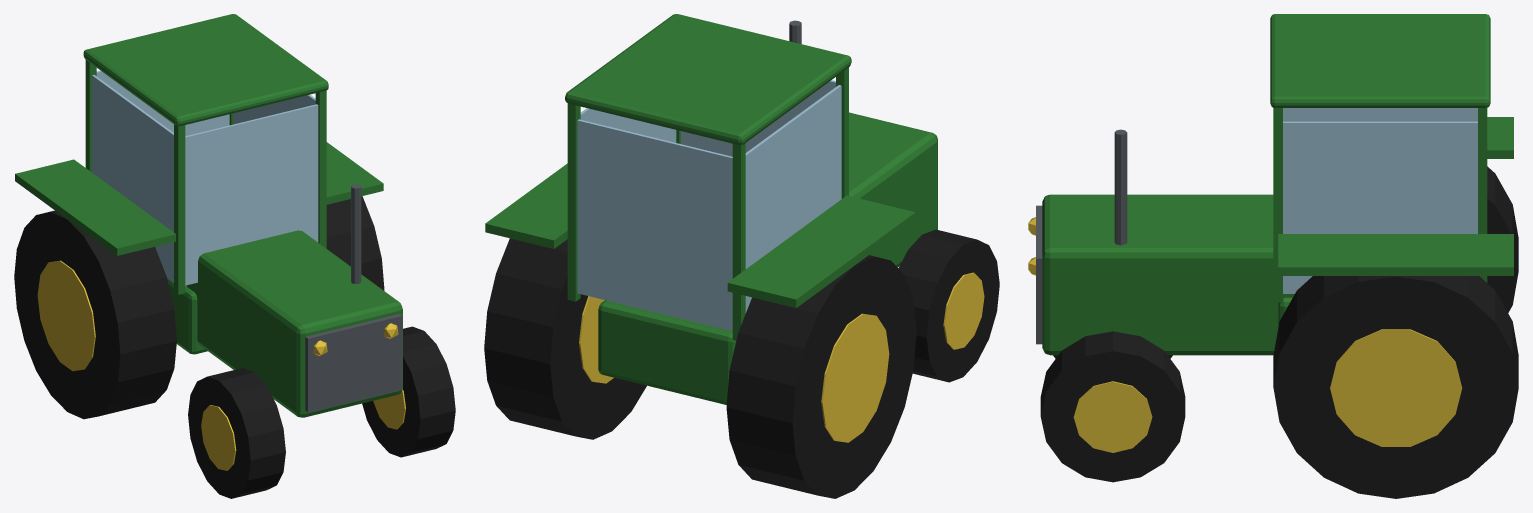
File: traktor.glb
3 renders of one model, left to right at view 1: azimuth 30°, elevation 25°; view 2: azimuth 150°, elevation 25°; view 3: azimuth 270°, elevation 25°, orthographic. The views are drawn at different scales.
Parts seen in each view (by area): view 1: motor, rad_h, glas_v, dach, glas_s, rad_v, grill, kotfluegel, rad_v.001, felge_h, rad_h.001, pfosten (+9 smaller); view 2: rad_h, glas_h, dach, rad_h.001, glas_s, rumpf, kotfluegel, rad_v, motor, felge_h, kotfluegel.001, pfosten.001 (+6 smaller); view 3: motor, rad_h.001, glas_s.001, dach, rad_v.001, felge_h.001, kotfluegel.001, felge_v.001, glas_s, rad_h, pfosten.002, auspuff (+3 smaller).
Boxes of the visible parts, box(x1,y1,x2,y2) form: motor: box(186, 230, 402, 417); rad_h: box(14, 210, 176, 419); glas_v: box(185, 104, 318, 285); dach: box(83, 14, 328, 126); glas_s: box(92, 74, 173, 282); rad_v: box(188, 368, 285, 498); grill: box(305, 314, 402, 412); kotfluegel: box(15, 159, 175, 255); rad_v.001: box(362, 326, 455, 457); felge_h: box(37, 260, 95, 371); rad_h.001: box(326, 196, 384, 290); pfosten: box(174, 124, 185, 294); rad_h: box(726, 255, 916, 498); glas_h: box(577, 119, 732, 330); dach: box(565, 14, 851, 144); rad_h.001: box(484, 238, 646, 439); glas_s: box(745, 85, 841, 313); rumpf: box(598, 300, 736, 404); kotfluegel: box(727, 195, 915, 307); rad_v: box(898, 229, 999, 382); motor: box(849, 112, 937, 267); felge_h: box(821, 313, 889, 442); kotfluegel.001: box(485, 163, 567, 248); pfosten.001: box(732, 143, 745, 340); motor: box(1042, 194, 1294, 355); rad_h.001: box(1273, 276, 1518, 498); glas_s.001: box(1283, 121, 1477, 293); dach: box(1270, 14, 1490, 107); rad_v.001: box(1040, 331, 1185, 482); felge_h.001: box(1330, 329, 1462, 446); kotfluegel.001: box(1278, 234, 1513, 275); felge_v.001: box(1073, 381, 1152, 452); glas_s: box(1283, 108, 1477, 121); rad_h: box(1487, 166, 1518, 312); pfosten.002: box(1273, 107, 1282, 302); auspuff: box(1114, 129, 1127, 245).
Bounding box in the file's own units: 2.26 × 2.59 × 3.12.
